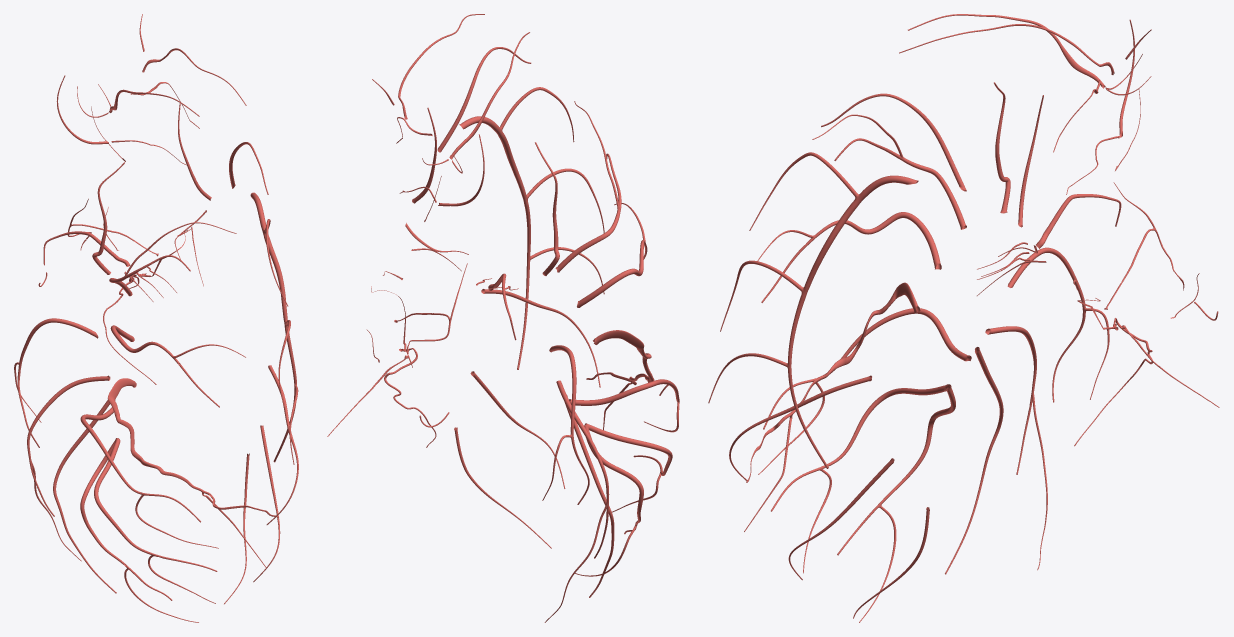
3 renders of one model, left to right at view 1: azimuth 30°, elevation 25°; view 2: azimuth 150°, elevation 25°; view 3: azimuth 270°, elevation 25°, orthographic. The views are drawn at different scales.
Parts seen in each view (by area): view 1: Central left, Callosomarginal left, Posterior parietal left, Temporo-occipital left, Angular left, Anterior parietal left, Posterior temporal left, Middle temporal left, Precentral left, Paracentral left, Precuneal left, MCA orbitofrontal left; view 2: Callosomarginal left, Central left, Temporo-occipital left, Anterior parietal left, Posterior temporal left, Posterior parietal left, Middle temporal left, Prefrontal left, Precentral left, ACA frontopolar left, Angular left, MCA orbitofrontal left (+1 smaller); view 3: Callosomarginal left, Central left, Precentral left, Anterior parietal left, Posterior parietal left, Temporo-occipital left, Middle temporal left, Angular left, ACA frontopolar left, Prefrontal left, Paracentral left, Supraorbital left (+1 smaller).
Boxes of the visible parts, <box> form: Central left: <box>107,378,278,517</box>; Callosomarginal left: <box>250,192,296,462</box>; Posterior parietal left: <box>94,438,217,571</box>; Temporo-occipital left: <box>53,400,116,593</box>; Angular left: <box>80,438,172,600</box>; Anterior parietal left: <box>80,407,200,522</box>; Posterior temporal left: <box>27,375,110,516</box>; Middle temporal left: <box>17,318,98,447</box>; Precentral left: <box>110,325,219,407</box>; Paracentral left: <box>266,365,298,524</box>; Precuneal left: <box>253,425,280,582</box>; MCA orbitofrontal left: <box>92,162,124,274</box>; Callosomarginal left: <box>459,116,530,369</box>; Central left: <box>586,330,654,385</box>; Temporo-occipital left: <box>564,394,614,597</box>; Anterior parietal left: <box>569,379,679,405</box>; Posterior temporal left: <box>556,380,609,558</box>; Posterior parietal left: <box>584,423,672,475</box>; Middle temporal left: <box>549,345,589,504</box>; Prefrontal left: <box>555,153,621,272</box>; Precentral left: <box>577,240,647,307</box>; ACA frontopolar left: <box>437,47,531,152</box>; Angular left: <box>584,424,643,534</box>; MCA orbitofrontal left: <box>535,142,559,275</box>; Callosomarginal left: <box>787,175,918,468</box>; Central left: <box>746,282,920,482</box>; Precentral left: <box>761,212,941,302</box>; Anterior parietal left: <box>763,308,971,429</box>; Posterior parietal left: <box>771,384,947,511</box>; Temporo-occipital left: <box>945,347,1003,574</box>; Middle temporal left: <box>1007,247,1085,402</box>; Angular left: <box>837,384,955,555</box>; ACA frontopolar left: <box>821,93,966,191</box>; Prefrontal left: <box>834,138,966,229</box>; Paracentral left: <box>729,375,871,480</box>; Supraorbital left: <box>908,14,1105,88</box>.
Size of the model in its own units: 62.43 by 164 by 120.
